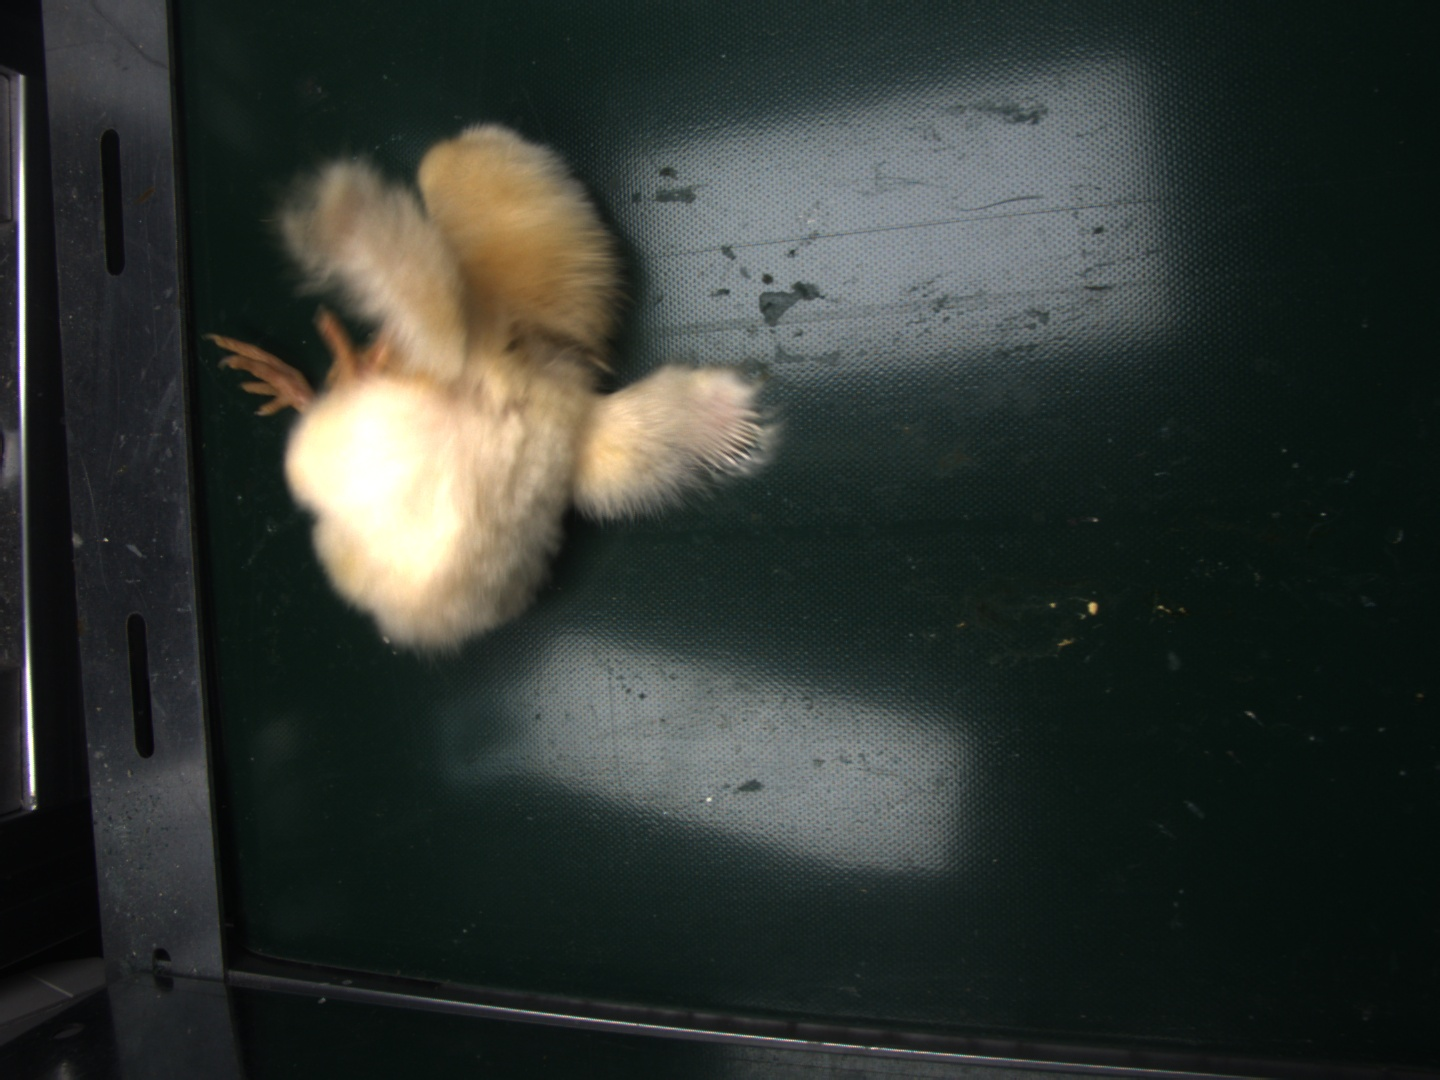male: (704, 412, 761, 469)
